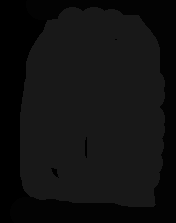fp: (10, 4, 176, 207)
